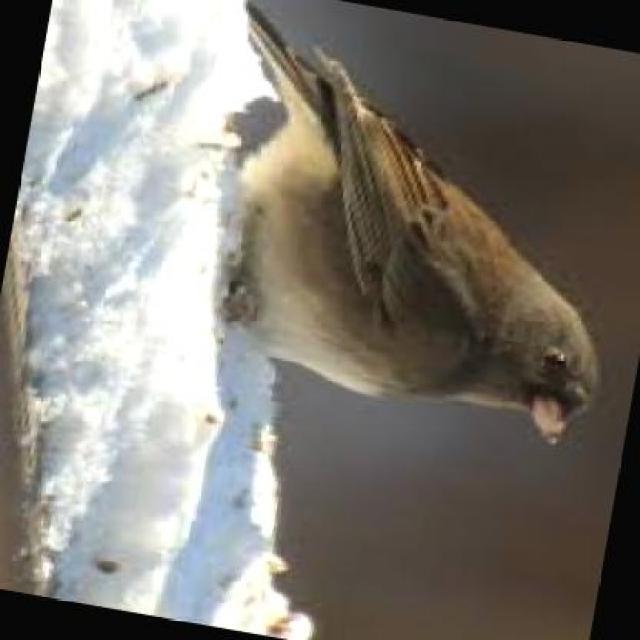Bird: (220, 10, 609, 451)
